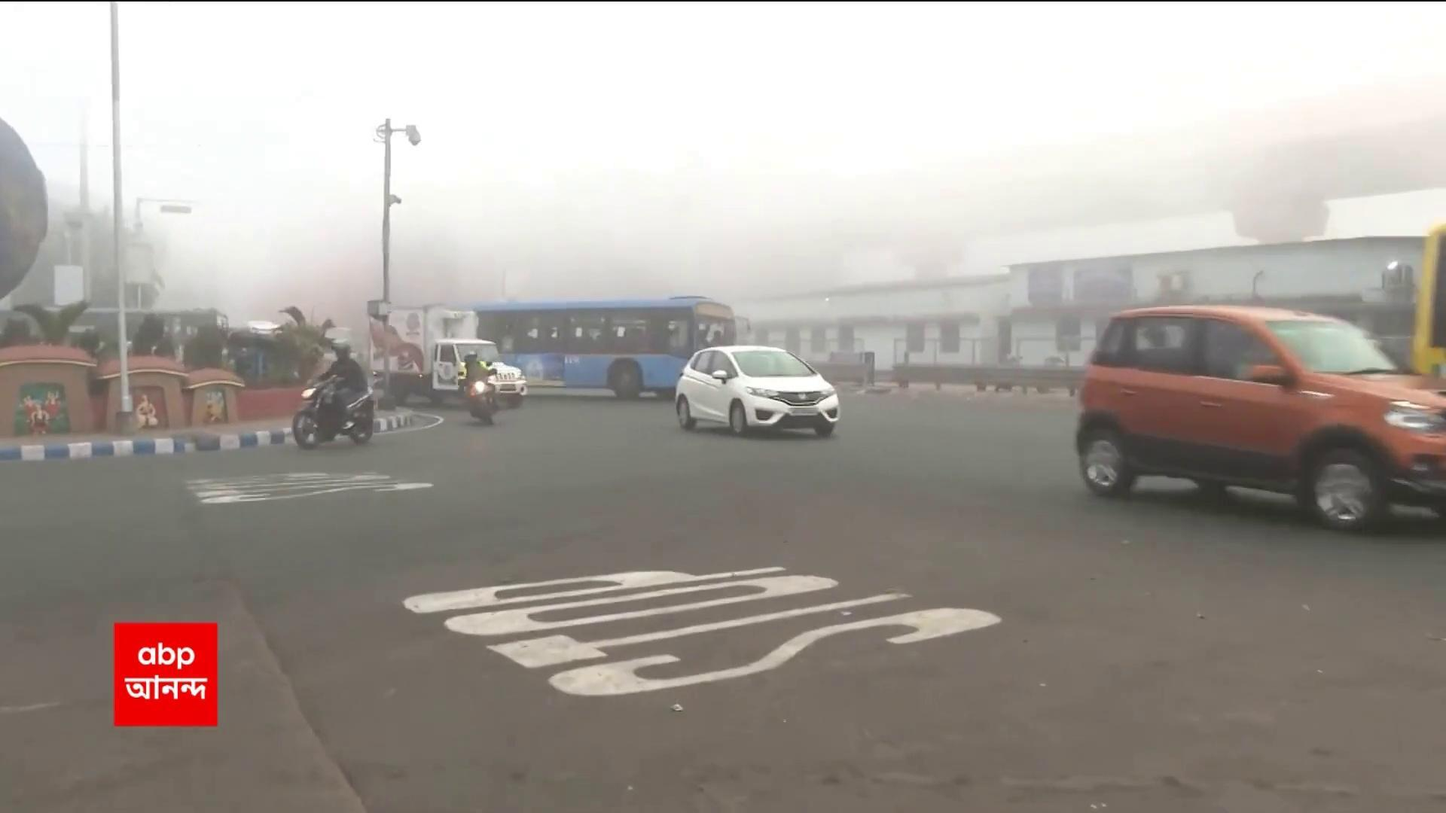Bike: (289, 338, 375, 452), (455, 350, 500, 428)
Bus: (474, 292, 737, 397)
Car: (1073, 300, 1446, 533), (674, 344, 840, 437)
